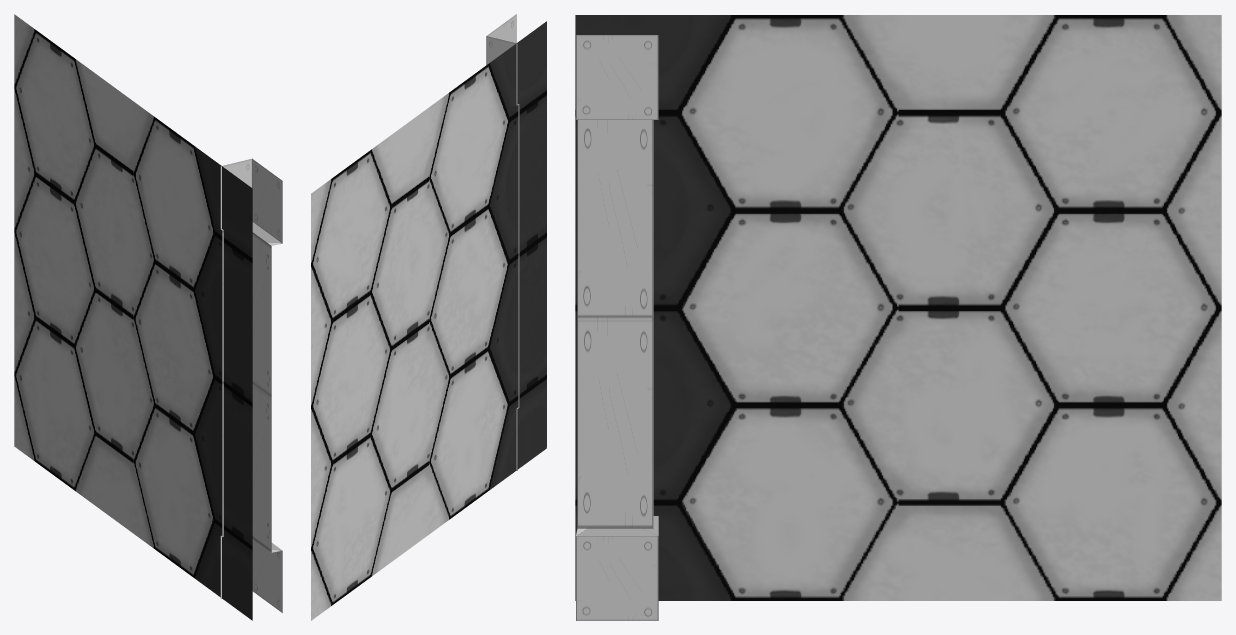
File: Wall_Left.fbx
3 renders of one model, left to right at view 1: azimuth 30°, elevation 25°; view 2: azimuth 150°, elevation 25°; view 3: azimuth 270°, elevation 25°, orthographic. The views are drawn at different scales.
Parts seen in each view (by area): view 1: pPlane125; view 2: pPlane125; view 3: pPlane125.
Boxes of the visible parts, bbox=[...] form: pPlane125: bbox=[14, 14, 282, 620]; pPlane125: bbox=[311, 14, 546, 620]; pPlane125: bbox=[575, 15, 1221, 620].
Bounding box in the file's own units: 0.1534 × 2 × 2.
